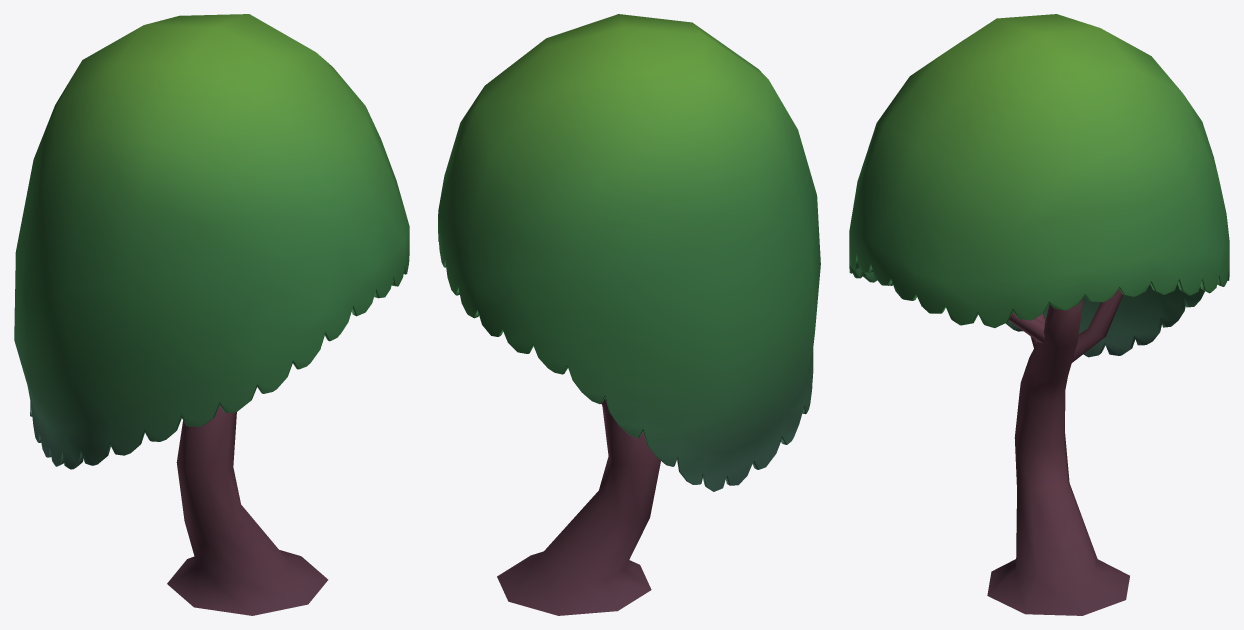
The model's file is tree_pack_18.glb.
The picture shows the model from 3 angles, left to right: view 1: azimuth 30°, elevation 25°; view 2: azimuth 150°, elevation 25°; view 3: azimuth 270°, elevation 25°; orthographic projection. The views are drawn at different scales.
Parts seen in each view (by area): view 1: Tree.018; view 2: Tree.018; view 3: Tree.018.
Boxes of the visible parts, x1,y1,x2,y2 form: Tree.018: (14, 14, 409, 615); Tree.018: (438, 14, 820, 615); Tree.018: (849, 14, 1229, 615).
Bounding box in the file's own units: 3.09 × 4.95 × 3.21.
Materials: 1 (1 with a texture image).
